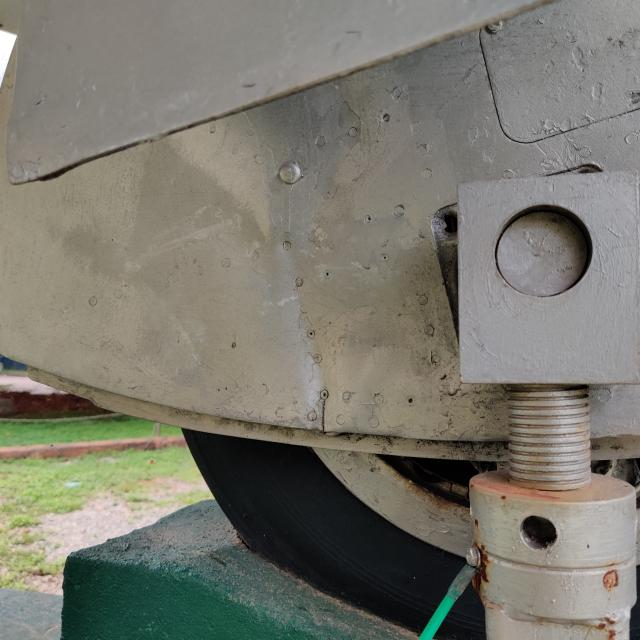crack: (305, 388, 337, 438)
